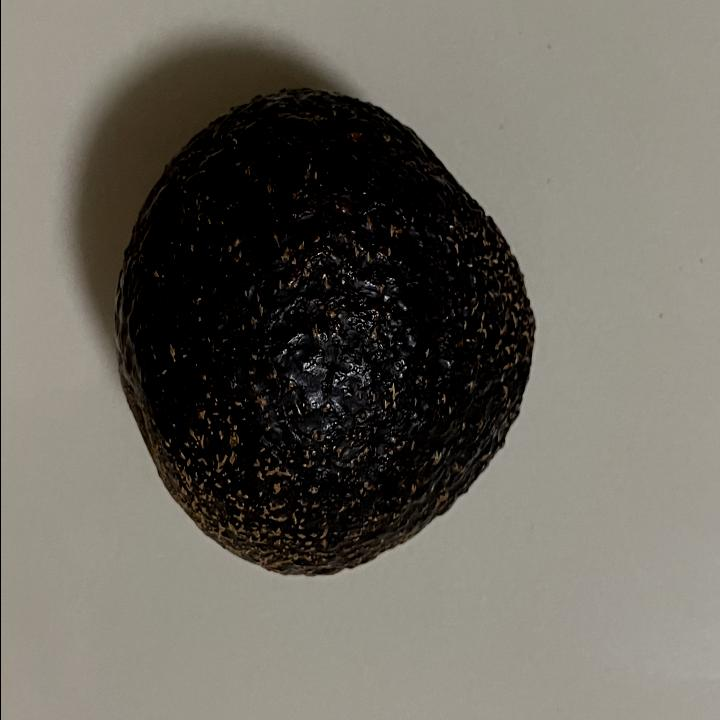Level3: (106, 76, 548, 592)
